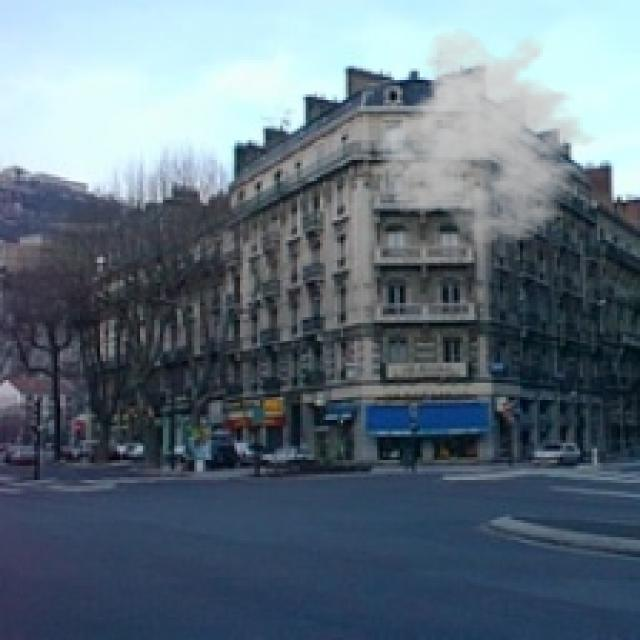smoke: (368, 26, 612, 246)
